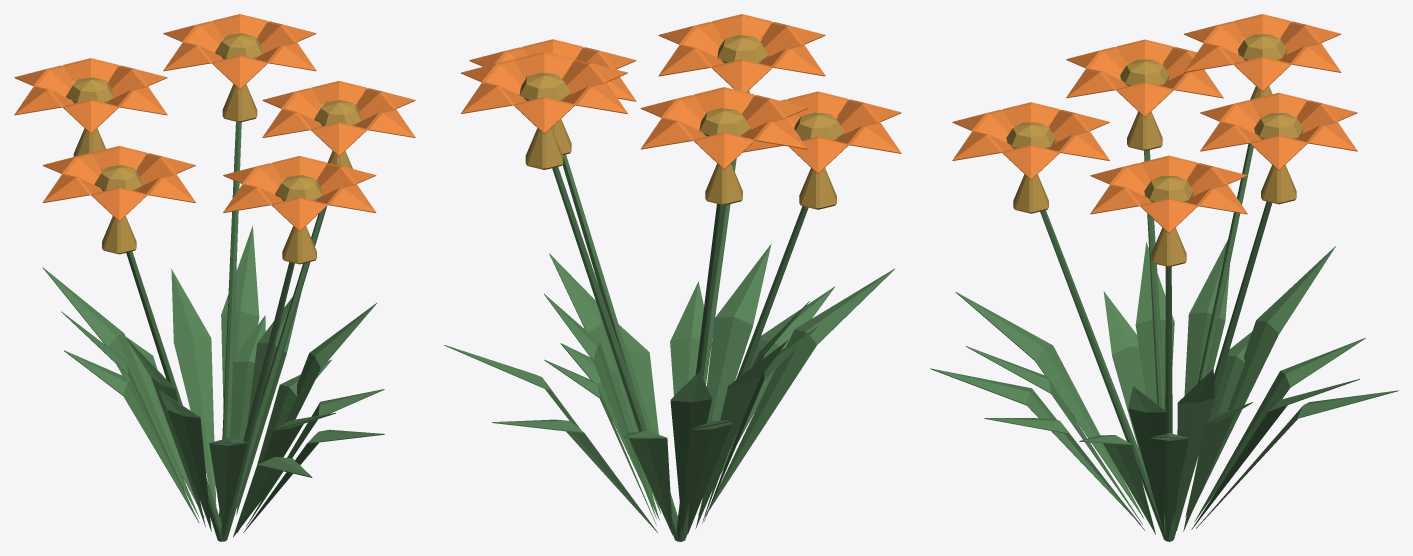
Rendered from b08_daylily_clump.glb.
The picture shows the model from 3 angles, left to right: view 1: azimuth 30°, elevation 25°; view 2: azimuth 150°, elevation 25°; view 3: azimuth 270°, elevation 25°; orthographic projection. The views are drawn at different scales.
Visible parts, largest first — view 1: b08_daylily_clump; view 2: b08_daylily_clump; view 3: b08_daylily_clump.
Part boxes in pixels (x1=…): b08_daylily_clump: x1=14, y1=14, x2=415, y2=541; b08_daylily_clump: x1=444, y1=14, x2=901, y2=541; b08_daylily_clump: x1=930, y1=14, x2=1398, y2=541.
Size of the model in its own units: 0.7258 by 0.8098 by 0.7442.
